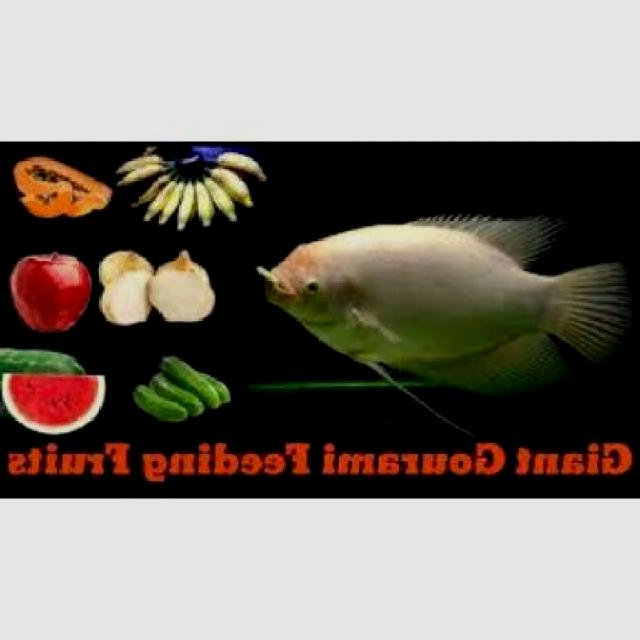gurame: (246, 214, 640, 408)
